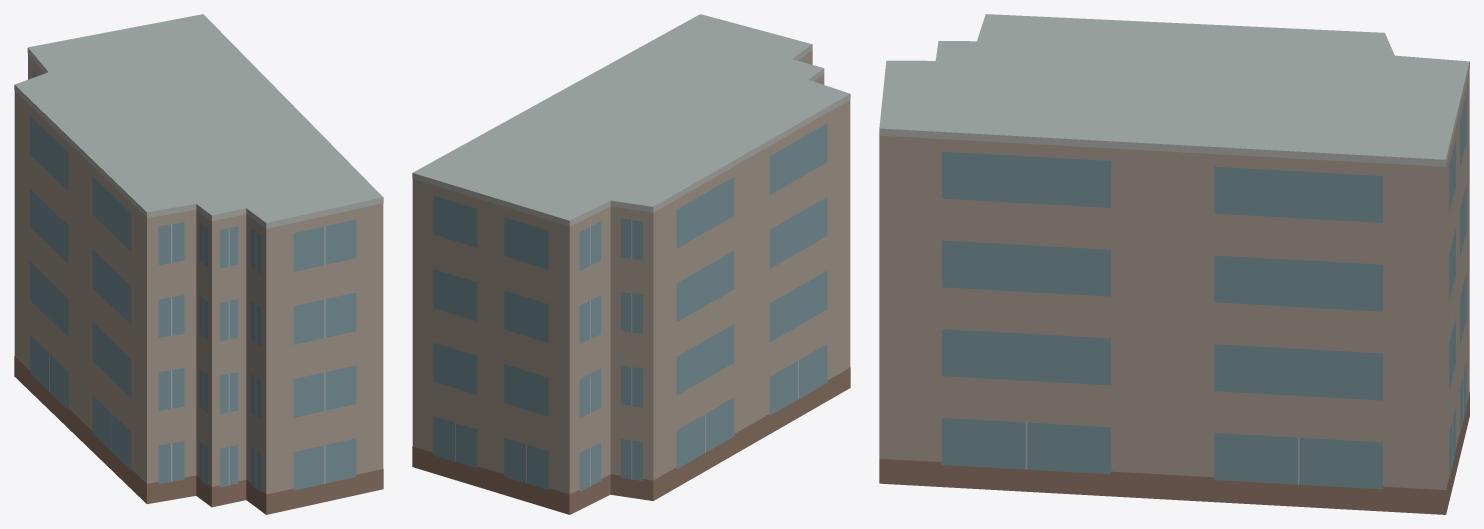
The model's file is survey-upis-32679269.glb.
3 views of the same model, side by side, from view 1: azimuth 30°, elevation 25°; view 2: azimuth 150°, elevation 25°; view 3: azimuth 270°, elevation 25° (orthographic). The views are drawn at different scales.
Visible parts, largest first — view 1: survey-upis-32679269.tmp; view 2: survey-upis-32679269.tmp; view 3: survey-upis-32679269.tmp.
Part boxes in pixels (bbox=[...]): survey-upis-32679269.tmp: bbox=[14, 14, 383, 514]; survey-upis-32679269.tmp: bbox=[412, 14, 850, 514]; survey-upis-32679269.tmp: bbox=[879, 14, 1469, 514].
Bounding box in the file's own units: 10.75 × 12.2 × 18.39.
